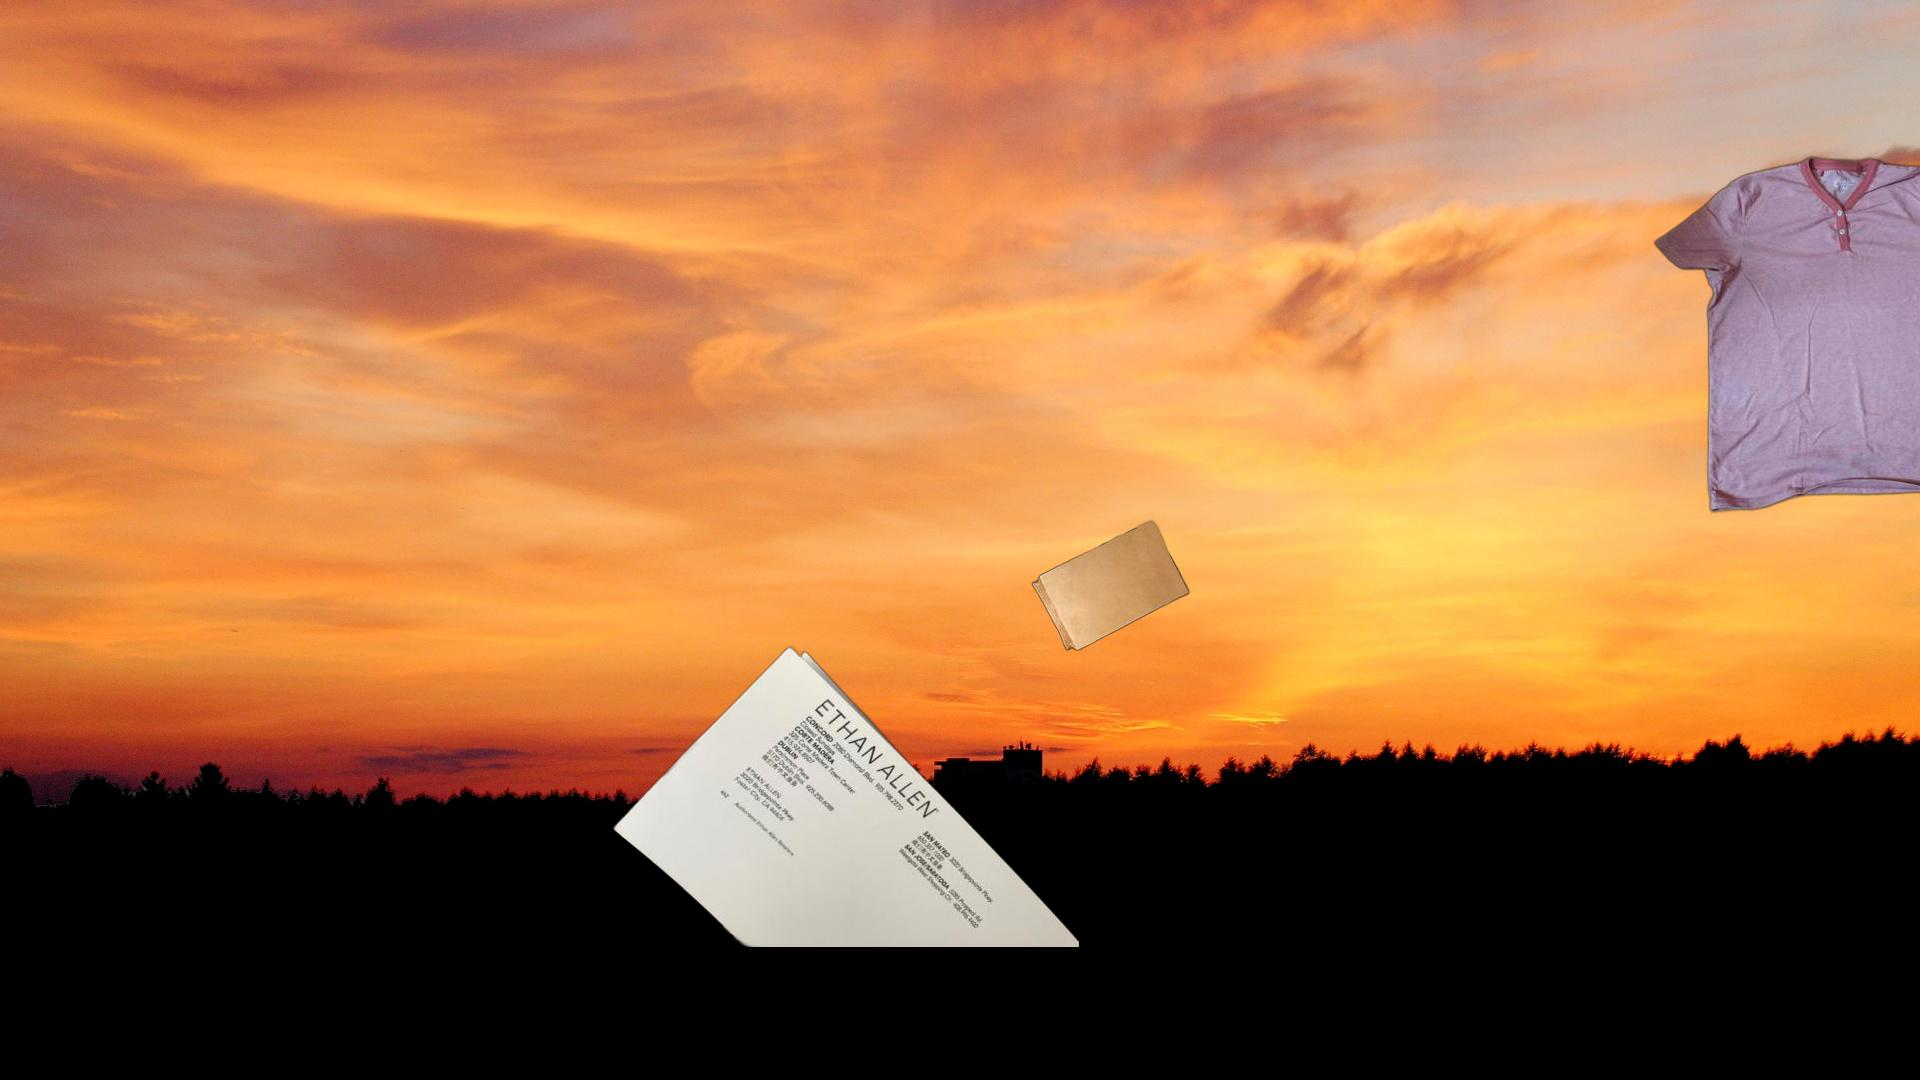clothes: (1652, 152, 1920, 517)
paper: (608, 644, 1079, 947)
paper-bag: (922, 518, 1193, 703)
